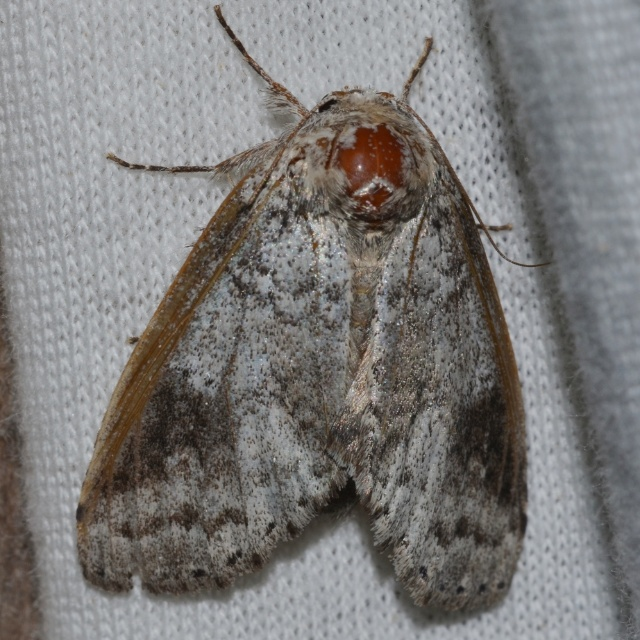Moths and butterflies: (76, 5, 554, 613)
